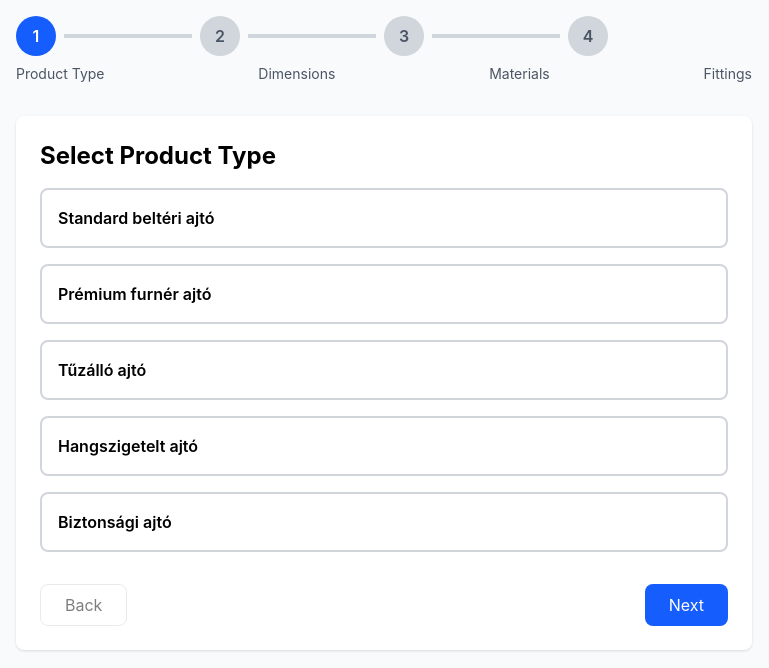
Test: ProductConfiguratorWizard › validates dimension inputs
Go to step 2
Click the button "Standard beltéri ajtó": (136, 218) [40, 188, 728, 248]
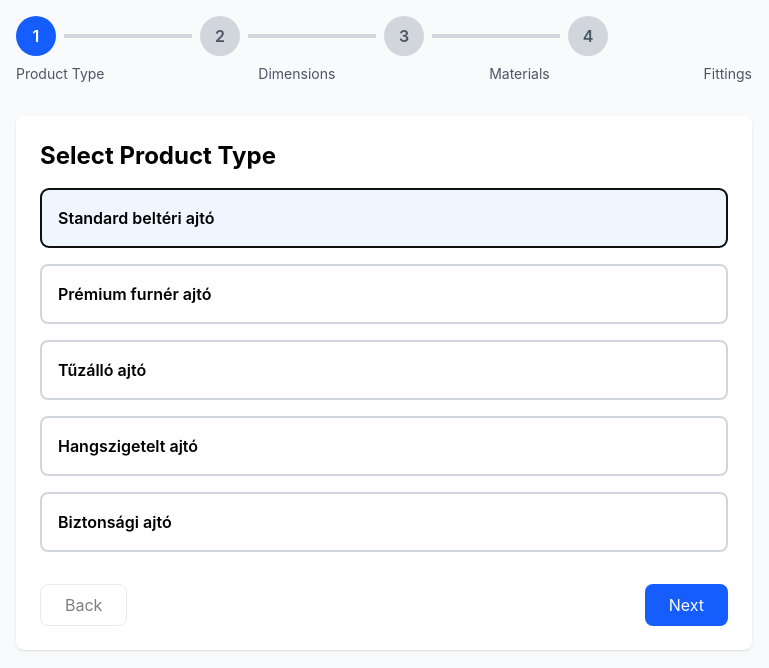
Click the button "Next": (686, 605) [645, 584, 728, 626]
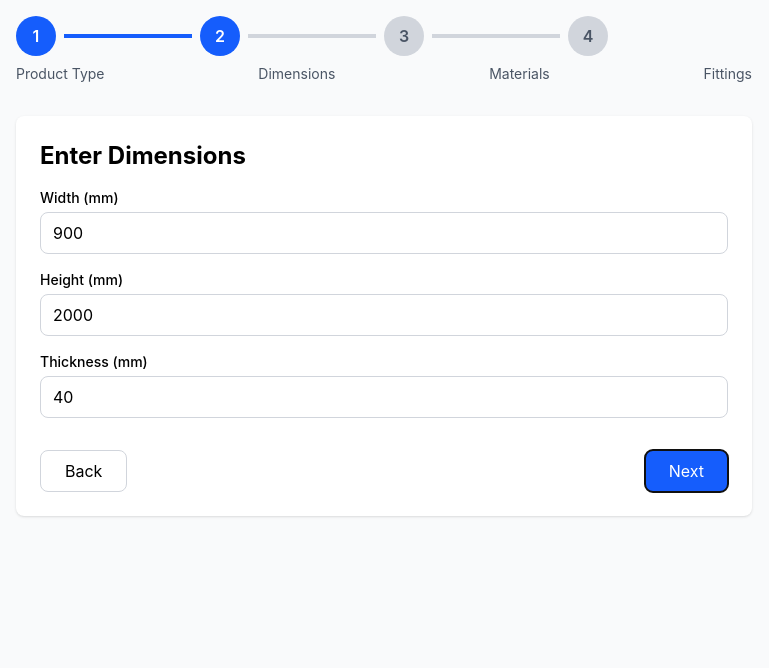
Result: the heading "Enter Dimensions" is shown at [40, 141, 246, 170]
Enter invalid width (too low)
Replace the text in the number field labelled "Width (mm)" with "500": (384, 233) [40, 212, 728, 254]
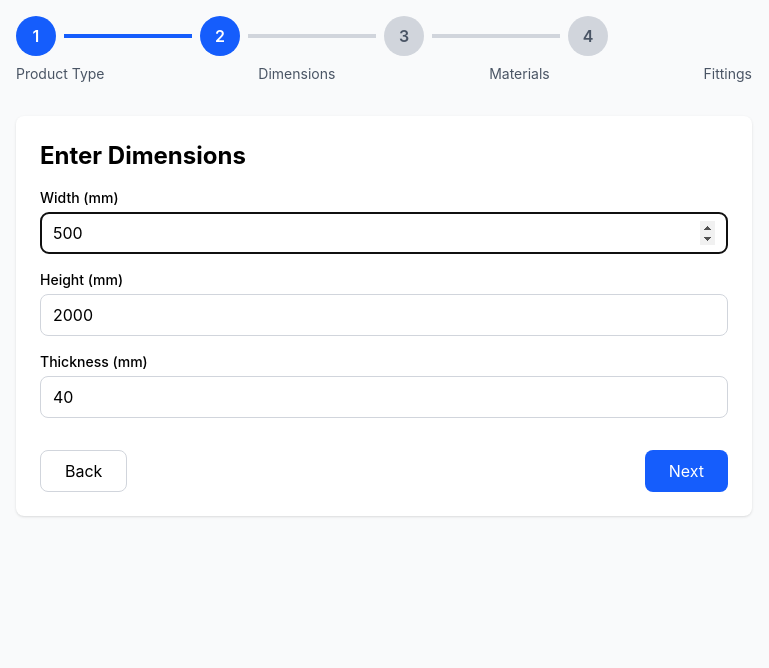
Try to proceed
Click the button "Next": (686, 471) [645, 450, 728, 492]
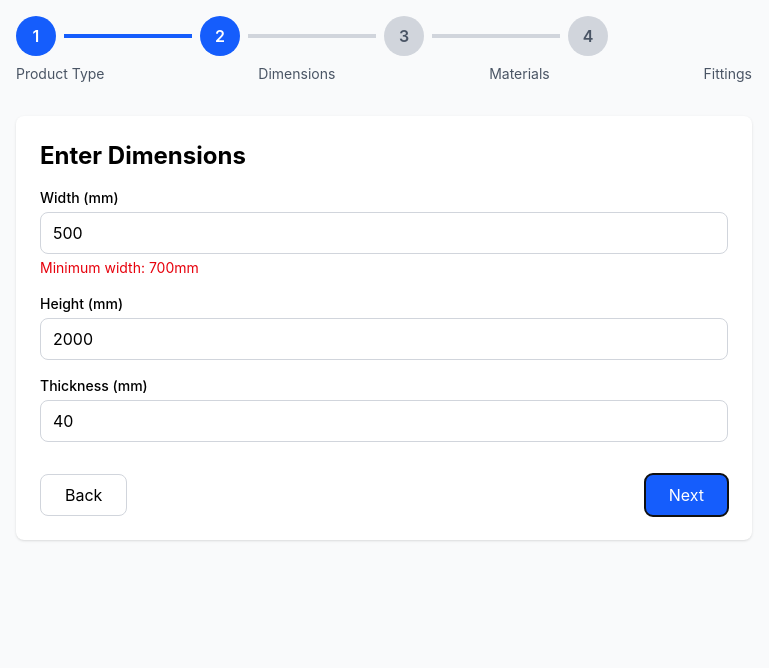
Result: the text "Minimum width: 700mm" is shown at [40, 259, 199, 276]
